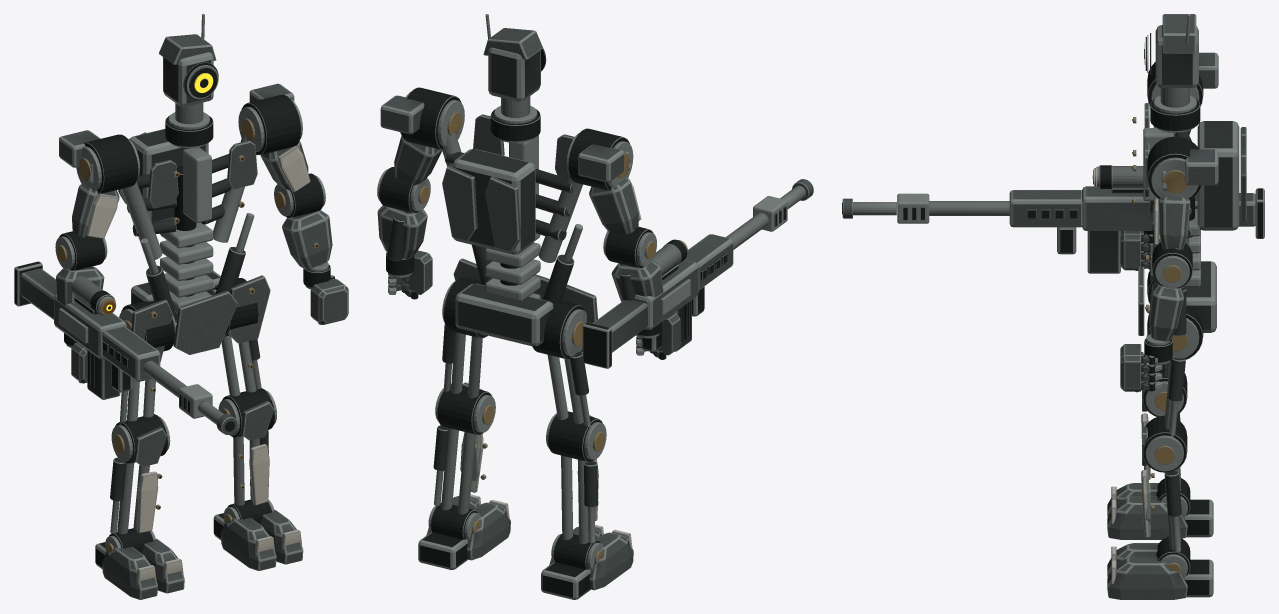
The model's file is ranged-t2-specter.glb.
3 renders of one model, left to right at view 1: azimuth 30°, elevation 25°; view 2: azimuth 150°, elevation 25°; view 3: azimuth 270°, elevation 25°, orthographic. The views are drawn at different scales.
Visible parts, largest first — view 1: chest__metal, pelvis__metal, weaponR__metal, pelvis__clay, weaponR__clay, ankleR__clay, ankleL__clay, kneeR__metal, head__metal, shoulderL__metal, shoulderR__metal, shoulderR__clay (+17 smaller); view 2: pelvis__metal, chest__metal, weaponR__metal, chest__clay, kneeL__metal, weaponR__clay, kneeR__metal, shoulderR__clay, head__metal, shoulderL__clay, ankleL__metal, ankleR__metal (+14 smaller); view 3: weaponR__metal, chest__metal, weaponR__clay, pelvis__metal, ankleL__clay, kneeL__metal, shoulderL__clay, ankleR__clay, head__metal, shoulderL__metal, elbowL__metal, ankleL__metal (+13 smaller).
Boxes of the visible parts, left/top/right/bottom form: chest__metal: left=121, top=112, right=247, bottom=259; pelvis__metal: left=119, top=165, right=258, bottom=351; weaponR__metal: left=14, top=261, right=234, bottom=431; pelvis__clay: left=131, top=275, right=270, bottom=361; weaponR__clay: left=20, top=268, right=237, bottom=434; ankleR__clay: left=102, top=538, right=184, bottom=599; ankleL__clay: left=220, top=509, right=303, bottom=570; kneeR__metal: left=110, top=414, right=170, bottom=534; head__metal: left=163, top=14, right=218, bottom=124; shoulderL__metal: left=238, top=94, right=302, bottom=155; shoulderR__metal: left=73, top=134, right=140, bottom=231; shoulderR__clay: left=59, top=130, right=119, bottom=238; pelvis__metal: left=442, top=224, right=586, bottom=359; chest__metal: left=442, top=105, right=582, bottom=262; weaponR__metal: left=582, top=185, right=806, bottom=368; chest__clay: left=442, top=114, right=574, bottom=251; kneeL__metal: left=433, top=383, right=495, bottom=514; weaponR__clay: left=592, top=179, right=813, bottom=352; kneeR__metal: left=546, top=411, right=606, bottom=544; shoulderR__clay: left=578, top=144, right=641, bottom=234; head__metal: left=485, top=14, right=546, bottom=117; shoulderL__clay: left=380, top=95, right=441, bottom=185; ankleL__metal: left=418, top=503, right=481, bottom=569; ankleR__metal: left=541, top=534, right=603, bottom=599; weaponR__metal: left=842, top=165, right=1264, bottom=273; chest__metal: left=1132, top=95, right=1239, bottom=246; weaponR__clay: left=842, top=186, right=1255, bottom=230; pelvis__metal: left=1145, top=197, right=1216, bottom=361; ankleL__clay: left=1107, top=543, right=1187, bottom=599; kneeL__metal: left=1142, top=415, right=1187, bottom=552; shoulderL__clay: left=1153, top=149, right=1218, bottom=249; ankleR__clay: left=1107, top=483, right=1187, bottom=539; head__metal: left=1144, top=14, right=1198, bottom=107; shoulderL__metal: left=1147, top=136, right=1201, bottom=249; elbowL__metal: left=1146, top=242, right=1192, bottom=335; ankleL__metal: left=1156, top=537, right=1213, bottom=597.
Bounding box in the file's own units: 2.33 × 4.4 × 3.03.
Materials: 12 (10 with a texture image).
